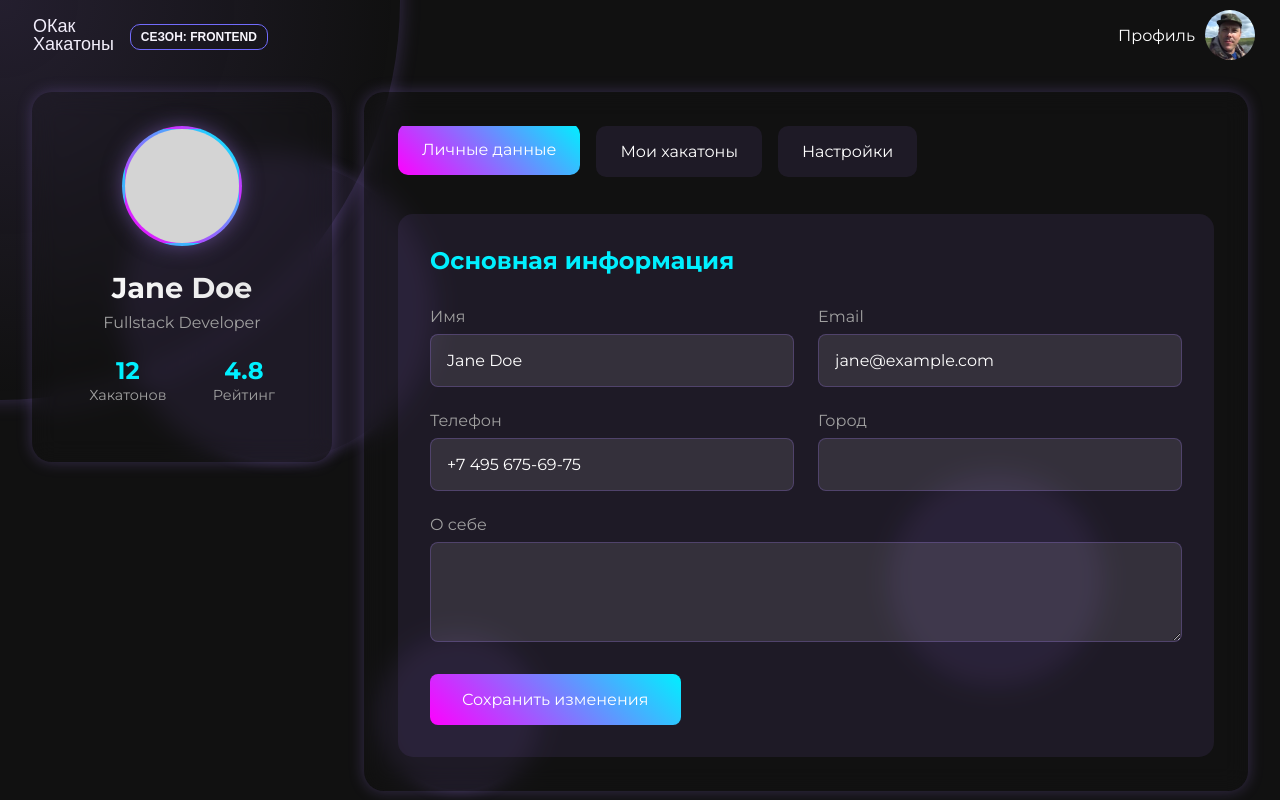
Test: ProfileView › shows settings form
The width and height of the screenshot is (1280, 800).
Click the button with class "tab-button" showing "Настройки" at {"x": 848, "y": 152}, box left=778, top=126, right=917, bottom=177
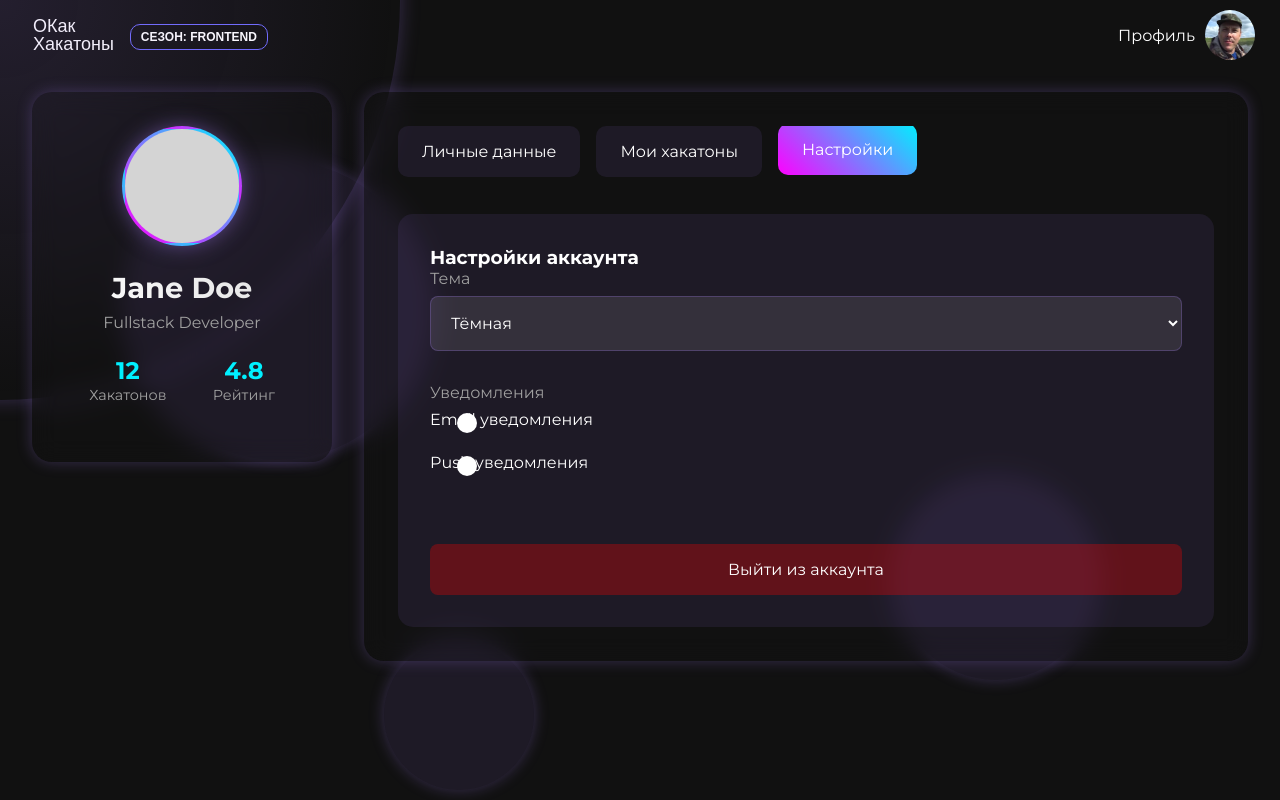
Check: the dropdown is shown, box left=430, top=296, right=1182, bottom=351
